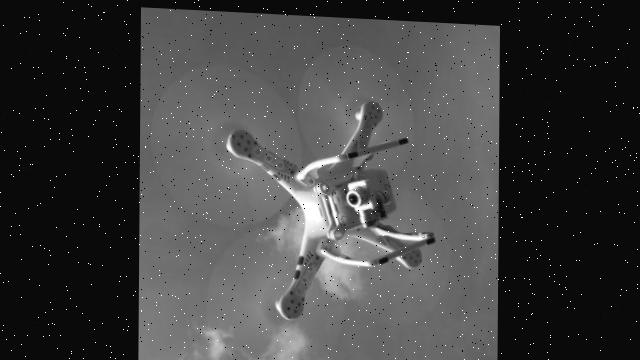drone: (138, 6, 460, 360)
